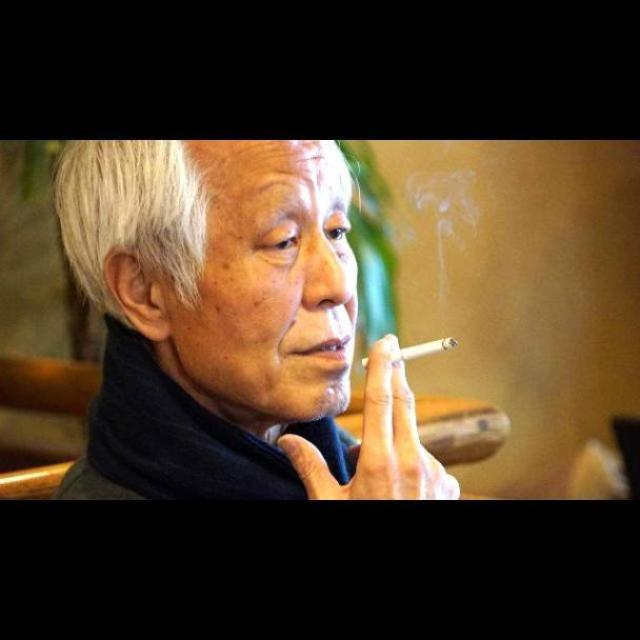rokok: (360, 333, 464, 369)
